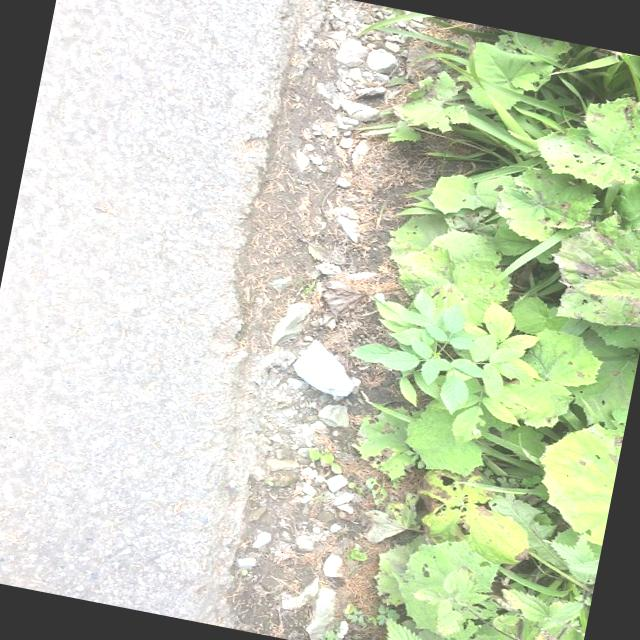Trash: (286, 334, 364, 404)
